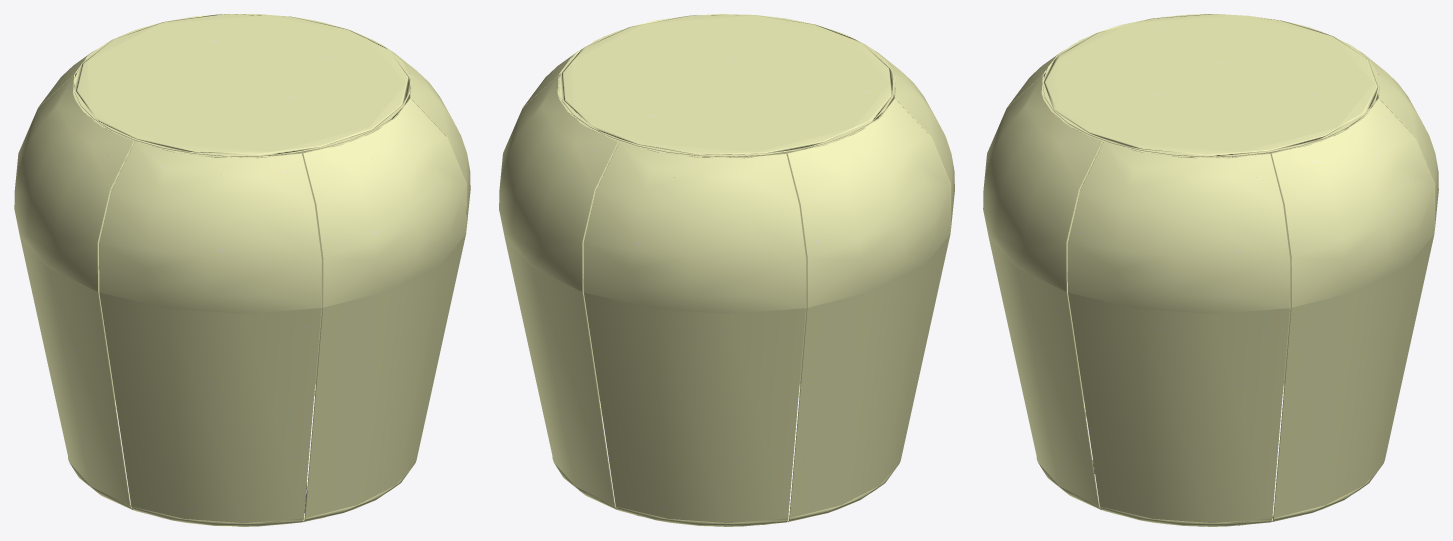
3 renders of one model, left to right at view 1: azimuth 30°, elevation 25°; view 2: azimuth 150°, elevation 25°; view 3: azimuth 270°, elevation 25°, orthographic.
Visible parts, largest first — view 1: 06821961-260b-4266-98e4-926ccc1600a7; view 2: 06821961-260b-4266-98e4-926ccc1600a7; view 3: 06821961-260b-4266-98e4-926ccc1600a7.
Boxes of the visible parts, x1,y1,x2,y2 form: 06821961-260b-4266-98e4-926ccc1600a7: (14, 14, 470, 526); 06821961-260b-4266-98e4-926ccc1600a7: (499, 14, 954, 526); 06821961-260b-4266-98e4-926ccc1600a7: (983, 14, 1438, 526).
Size of the model in its own units: 0.4794 by 0.4459 by 0.479.
Materials: 2 (2 with a texture image).
